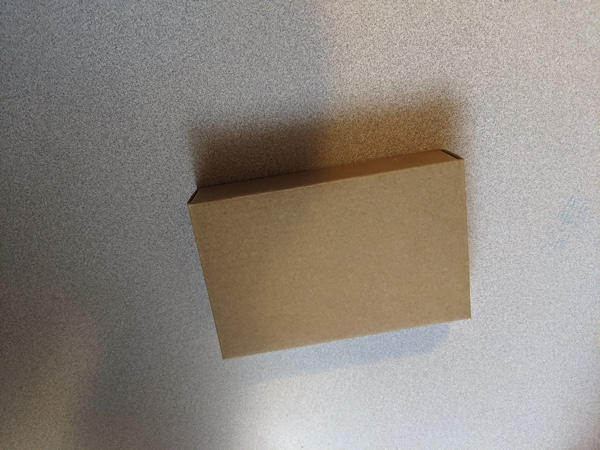cardboard: (175, 137, 487, 374)
